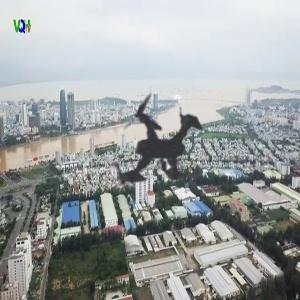drone: (13, 3, 295, 285)
